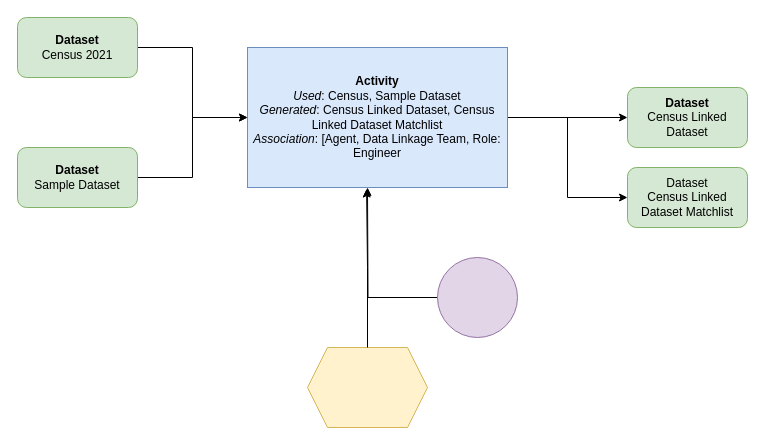
The diagram is 765 pixels wide and 445 high, and some of its shapes have lost their labels. Here are the shapes that lost their labels. From the top down, the centre of each, then its label:
the point at 477,297: Role Engineer
the point at 367,387: Agent Data Linkage Team Type : Person
